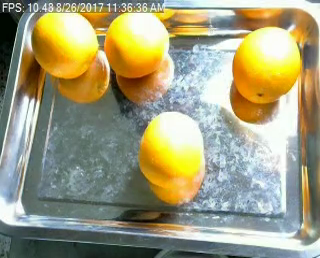Orange: (232, 26, 299, 103), (137, 111, 204, 186), (31, 10, 99, 80), (102, 11, 170, 78)
